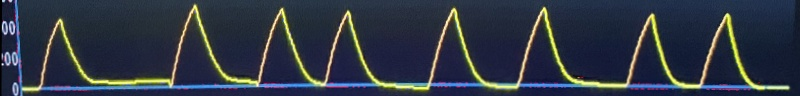normal_volume: (35, 0, 780, 96)
